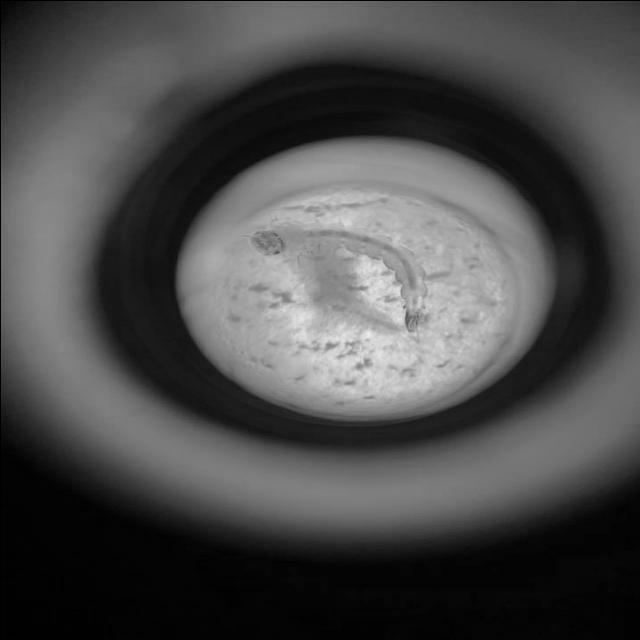larvas: (257, 223, 425, 330)
